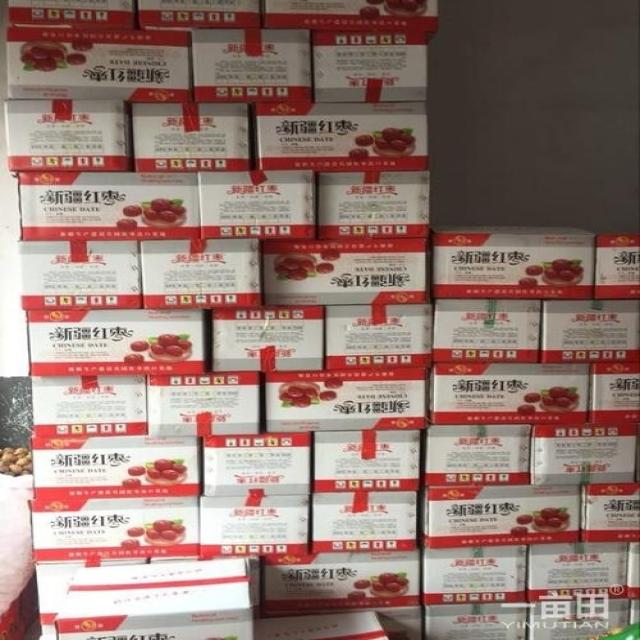box: (55, 557, 252, 640), (6, 27, 196, 104), (10, 171, 200, 242), (246, 102, 430, 173), (430, 223, 595, 299), (26, 308, 205, 377), (262, 237, 430, 305), (28, 436, 201, 500), (28, 498, 200, 561), (265, 367, 428, 433), (419, 484, 580, 550), (426, 363, 591, 424), (265, 549, 420, 611), (32, 557, 147, 639), (191, 28, 314, 104), (3, 100, 129, 172), (18, 240, 142, 311), (128, 102, 251, 173), (312, 30, 431, 102), (140, 239, 262, 309), (197, 169, 317, 240), (317, 169, 430, 238), (265, 0, 440, 43), (147, 371, 260, 437), (212, 305, 324, 371), (527, 420, 639, 486), (324, 303, 434, 370), (32, 375, 147, 437), (430, 299, 541, 363), (204, 433, 311, 498), (421, 423, 530, 486), (198, 496, 310, 557), (311, 489, 419, 552), (314, 429, 420, 491), (540, 298, 640, 363), (421, 545, 527, 605), (526, 541, 627, 602), (530, 598, 632, 640), (253, 609, 388, 640), (6, 0, 138, 31), (579, 482, 640, 544), (425, 604, 529, 640), (138, 0, 265, 29), (588, 361, 640, 422), (594, 233, 640, 300), (372, 606, 425, 640)
